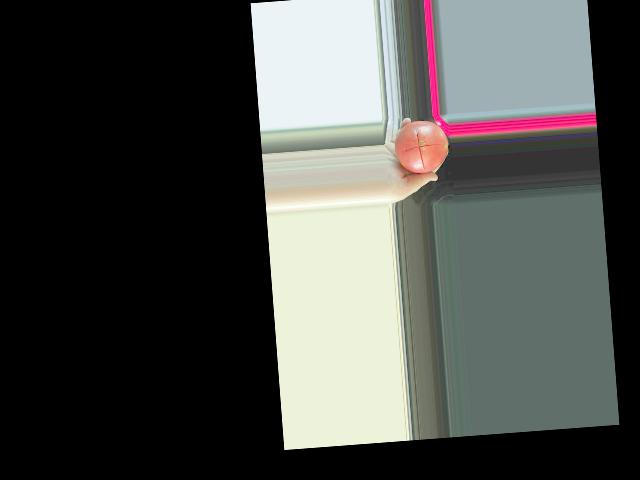tomato: (392, 118, 449, 175)
